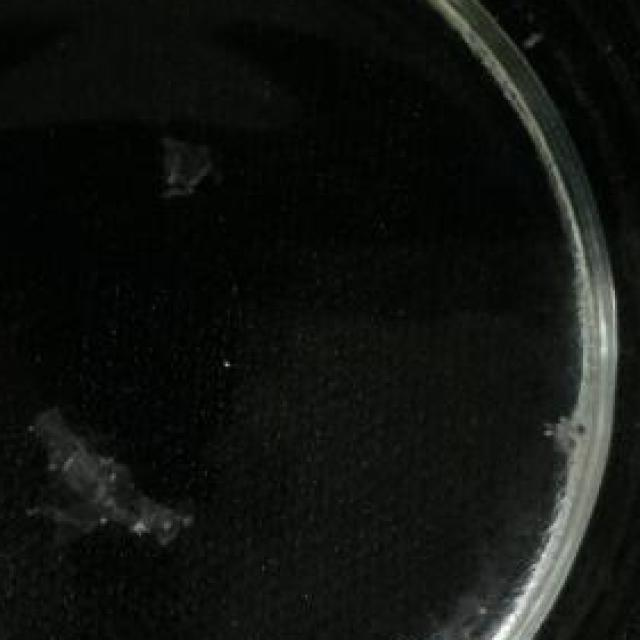Microplastic: (29, 393, 196, 571), (155, 126, 223, 198)
